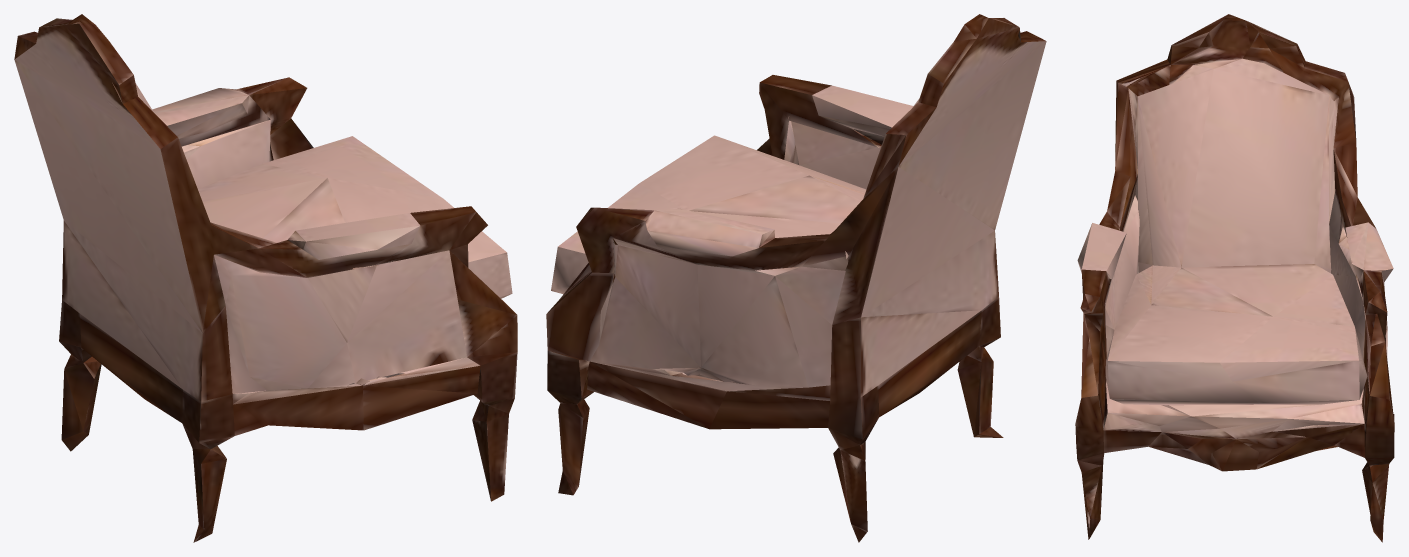
The model's file is mj-restaurant-armchair-louis-xvi.lod1.glb.
3 views of the same model, side by side, from view 1: azimuth 30°, elevation 25°; view 2: azimuth 150°, elevation 25°; view 3: azimuth 270°, elevation 25° (orthographic). The views are drawn at different scales.
Visible parts, largest first — view 1: mj-restaurant-armchair-louis-xvi; view 2: mj-restaurant-armchair-louis-xvi; view 3: mj-restaurant-armchair-louis-xvi.
Boxes of the visible parts, x1=… form: mj-restaurant-armchair-louis-xvi: x1=14, y1=14, x2=517, y2=542; mj-restaurant-armchair-louis-xvi: x1=546, y1=14, x2=1046, y2=542; mj-restaurant-armchair-louis-xvi: x1=1075, y1=14, x2=1394, y2=542.
Bounding box in the file's own units: 0.7103 × 0.9104 × 0.663.
Materials: 1 (1 with a texture image).
